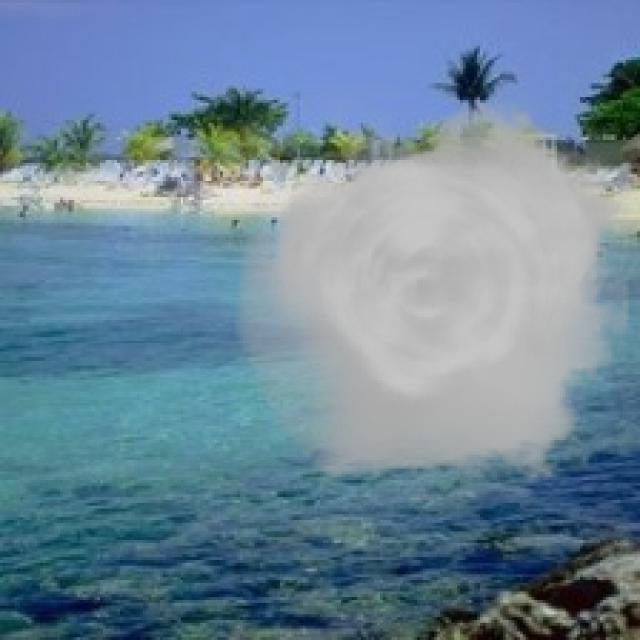smoke: (234, 89, 629, 500)
